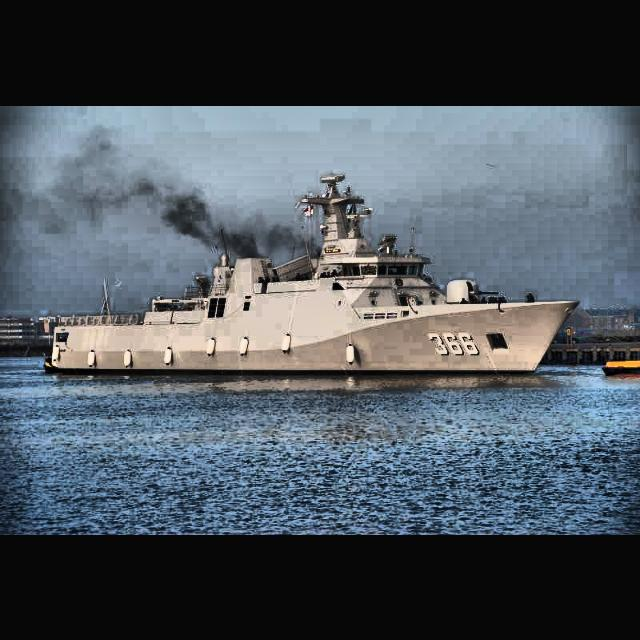combat_vessel: (43, 172, 580, 378)
